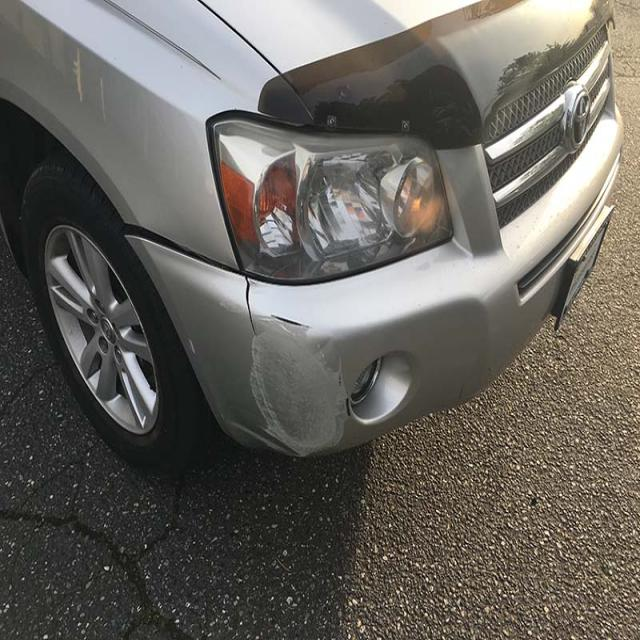misalignment: (126, 223, 245, 275)
scratch: (249, 312, 353, 458), (220, 297, 245, 315), (186, 332, 197, 358)
tear: (245, 277, 256, 334)
